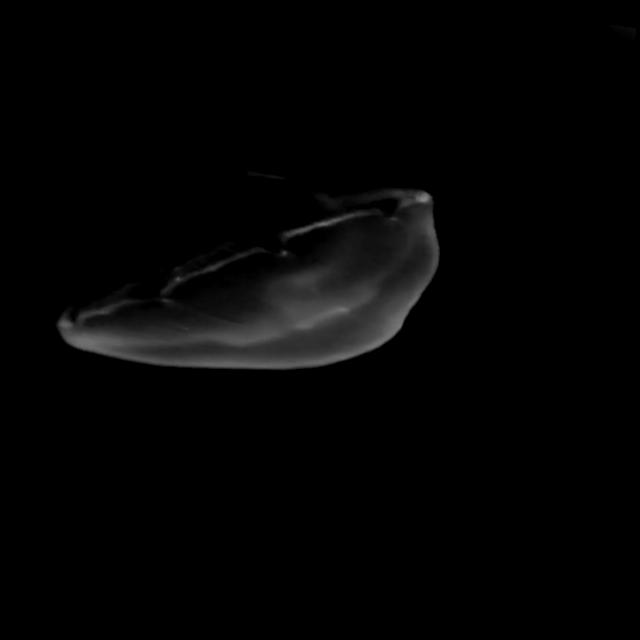Moon-jellyfish: (59, 185, 446, 377)
